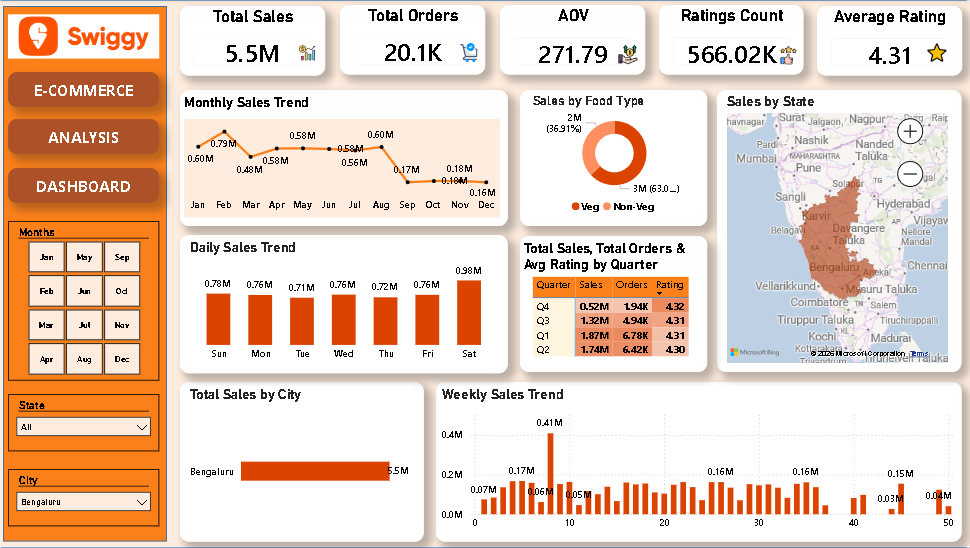

The page's visual inventory and layout, read from the dashboard file:
{"tool":"powerbi","page":{"name":"Page 1","canvas":[1280,720],"ordinal":0},"visuals":[{"type":"shape","box":[0,0,1279.8,720],"z":0},{"type":"cardVisual","title":"Ratings Count","fields":{"Data":["Swiggy Data.Ratings Count"]},"box":[869.9,8,189,91],"z":1000},{"type":"cardVisual","title":"AOV","fields":{"Data":["Swiggy Data.Average Order Value"]},"box":[661.2,8,189.6,91],"z":2000},{"type":"shape","box":[10.3,8.8,214.5,700.9],"z":3000},{"type":"cardVisual","title":"Average Rating","fields":{"Data":["Swiggy Data.Average Rating"]},"box":[1075.6,8.8,189.6,91],"z":4000},{"type":"cardVisual","title":"Total Orders","fields":{"Data":["Swiggy Data.Total Orders"]},"box":[451.1,8,189.6,91],"z":5000},{"type":"cardVisual","title":"Total Sales","fields":{"Data":["Swiggy Data.Total Sales"]},"box":[242.4,8.8,189.6,91.1],"z":6000},{"type":"image","box":[398.2,54.4,20.6,30.9],"z":7000},{"type":"image","box":[1213.7,57.3,39.7,25],"z":8000},{"type":"image","box":[809.6,60.2,39.7,25],"z":9000},{"type":"image","box":[1016.8,61.7,42.6,23.5],"z":10000},{"type":"image","box":[601,57.3,39.7,25],"z":11000},{"type":"image","box":[17.6,17.6,198.4,64.7],"z":12000},{"type":"shape","title":"Monthly Sales Trend","box":[242.4,119,429.1,177.8],"z":13000},{"type":"lineChart","title":"Monthly Sales Trend","fields":{"Category":["Swiggy Data.Months"],"Y":["Swiggy Data.Total Sales"]},"box":[246.9,157.2,414.4,129.3],"z":14000},{"type":"shape","box":[577.5,501.1,687.7,208.7],"z":15000},{"type":"shape","title":"Sales by Food Type","box":[687.7,119,245.4,177.8],"z":16000},{"type":"shape","box":[944.8,119,320.3,368.8],"z":17000},{"type":"shape","box":[242.4,501.1,318.9,208.7],"z":18000},{"type":"shape","box":[242.4,308.6,429.1,180.7],"z":19000},{"type":"shape","title":"Total Sales, Total Orders & Avg Rating by Quarter","box":[687.7,310,245.4,177.8],"z":20000},{"type":"donutChart","title":"Sales by Food Type","fields":{"Y":["Swiggy Data.Total Sales"],"Category":["Swiggy Data.Food Type"]},"box":[698.5,123.5,223.5,167.6],"z":21000},{"type":"clusteredColumnChart","title":"Daily Sales Trend","fields":{"Category":["Swiggy Data.Day"],"Y":["Swiggy Data.Total Sales"]},"box":[250,314.7,414.7,167.6],"z":22000},{"type":"pivotTable","fields":{"Rows":["Swiggy Data.Quarter"],"Values":["Swiggy Data.Total Sales","Swiggy Data.Total Orders","Avg(Swiggy Data.Rating)"]},"box":[698.5,358.8,226.5,114.7],"z":23000},{"type":"filledMap","title":"Sales by State","fields":{"Category":["Swiggy Data.State"]},"box":[952.9,123.5,300,358.8],"z":24000},{"type":"clusteredBarChart","fields":{"Category":["Swiggy Data.City"],"Y":["Swiggy Data.Total Sales"]},"box":[249.8,506.9,296.8,196.9],"z":25000},{"type":"slicer","fields":{"Values":["Swiggy Data.Months"]},"box":[17.6,290.9,198.4,208.7],"z":26000},{"type":"clusteredColumnChart","title":"Weekly Sales Trend","fields":{"Y":["Swiggy Data.Total Sales"],"Category":["Swiggy Data.Week"]},"box":[580.4,506.9,680.3,196.9],"z":27000},{"type":"slicer","fields":{"Values":["Swiggy Data.State"]},"box":[17.6,517.2,198.4,74.9],"z":28000},{"type":"slicer","fields":{"Values":["Swiggy Data.City"]},"box":[17.6,615.7,198.4,74.9],"z":29000},{"type":"shape","title":"DASHBOARD","box":[17.6,95.5,198.4,45.6],"z":30000},{"type":"shape","title":"DASHBOARD","box":[17.6,157.2,198.4,45.6],"z":31000},{"type":"shape","title":"DASHBOARD","box":[17.6,221.9,198.4,45.6],"z":32000}]}

Visuals, with their boxes in screenshot pixels (x1, y1, x2, y2), scaled from the page's 1280x720 canvas onto the 970x548 screenshot:
shape: rect(0, 0, 969, 547)
"Ratings Count" cardVisual: rect(659, 6, 802, 75)
"AOV" cardVisual: rect(501, 6, 645, 75)
shape: rect(8, 7, 170, 540)
"Average Rating" cardVisual: rect(815, 7, 959, 76)
"Total Orders" cardVisual: rect(342, 6, 486, 75)
"Total Sales" cardVisual: rect(184, 7, 327, 76)
image: rect(302, 41, 317, 65)
image: rect(920, 44, 950, 63)
image: rect(614, 46, 644, 65)
image: rect(771, 47, 803, 65)
image: rect(455, 44, 486, 63)
image: rect(13, 13, 164, 63)
"Monthly Sales Trend" shape: rect(184, 91, 509, 226)
"Monthly Sales Trend" lineChart: rect(187, 120, 501, 218)
shape: rect(438, 381, 959, 540)
"Sales by Food Type" shape: rect(521, 91, 707, 226)
shape: rect(716, 91, 959, 371)
shape: rect(184, 381, 425, 540)
shape: rect(184, 235, 509, 372)
"Total Sales, Total Orders & Avg Rating by Quarter" shape: rect(521, 236, 707, 371)
"Sales by Food Type" donutChart: rect(529, 94, 699, 222)
"Daily Sales Trend" clusteredColumnChart: rect(189, 240, 504, 367)
pivotTable - Swiggy Data.Quarter x Swiggy Data.Total Sales: rect(529, 273, 701, 360)
"Sales by State" filledMap: rect(722, 94, 949, 367)
clusteredBarChart - Swiggy Data.City x Swiggy Data.Total Sales: rect(189, 386, 414, 536)
slicer - Swiggy Data.Months: rect(13, 221, 164, 380)
"Weekly Sales Trend" clusteredColumnChart: rect(440, 386, 955, 536)
slicer - Swiggy Data.State: rect(13, 394, 164, 451)
slicer - Swiggy Data.City: rect(13, 469, 164, 526)
"DASHBOARD" shape: rect(13, 73, 164, 107)
"DASHBOARD" shape: rect(13, 120, 164, 154)
"DASHBOARD" shape: rect(13, 169, 164, 204)
